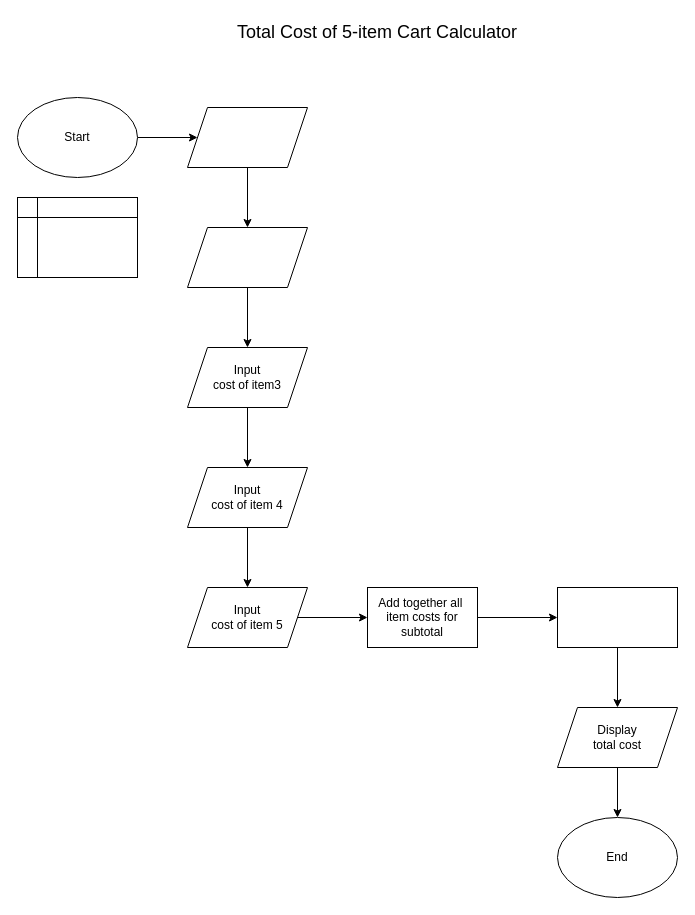
Image size: 695x915. Some labels were removed from this diagram. The centre of each missing label's shape, as x and y in pixels:
"Apply sales tax to subtotal to get total cost of purchase" goes at (x=617, y=617).
"Input cost of item 1" goes at (x=247, y=137).
"Input cost of item 2" goes at (x=247, y=257).
"Sales tax = 0.07" goes at (x=77, y=237).
